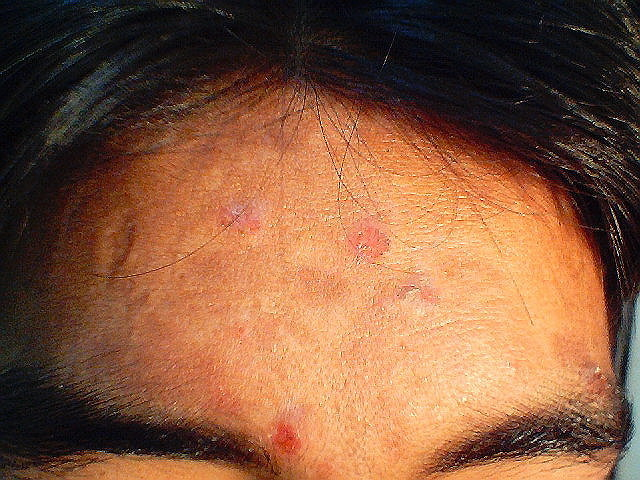jerawat: (134, 163, 481, 461)
